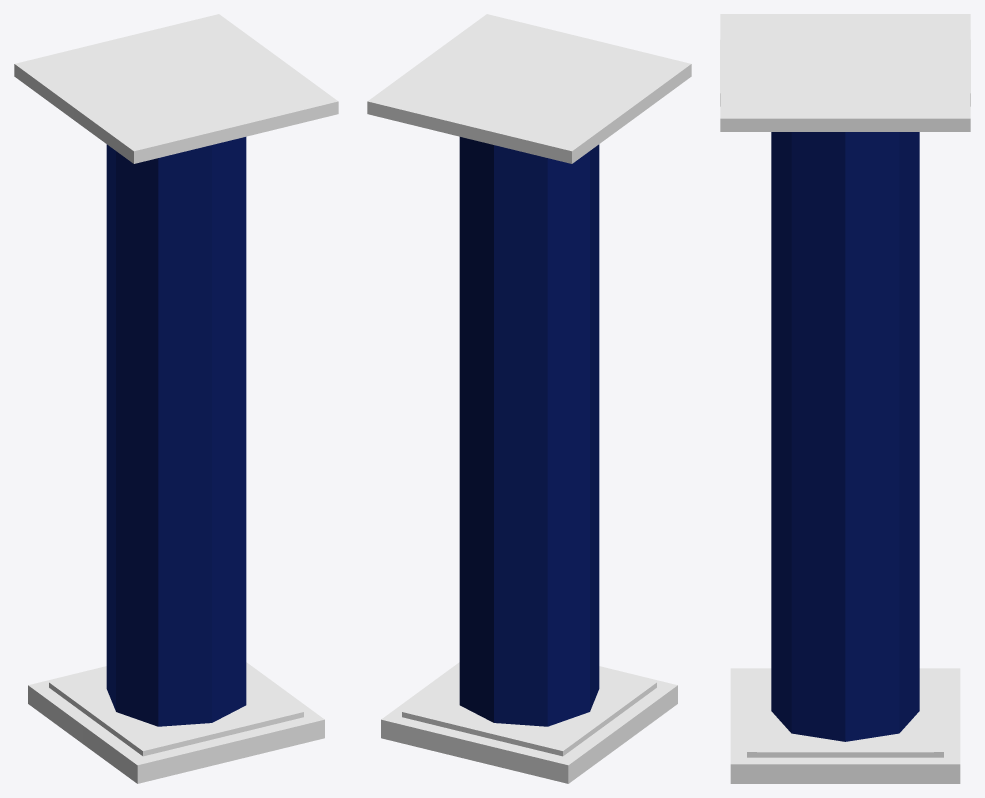
File: Columna_media.fbx
The picture shows the model from 3 angles, left to right: view 1: azimuth 30°, elevation 25°; view 2: azimuth 150°, elevation 25°; view 3: azimuth 270°, elevation 25°; orthographic projection. The views are drawn at different scales.
Visible parts, largest first — view 1: Object009; view 2: Object009; view 3: Object009.
Boxes of the visible parts, <box> form: Object009: <box>14,14,338,783</box>; Object009: <box>367,14,691,783</box>; Object009: <box>720,14,970,783</box>.
Size of the model in its own units: 93.25 by 278 by 94.31.
